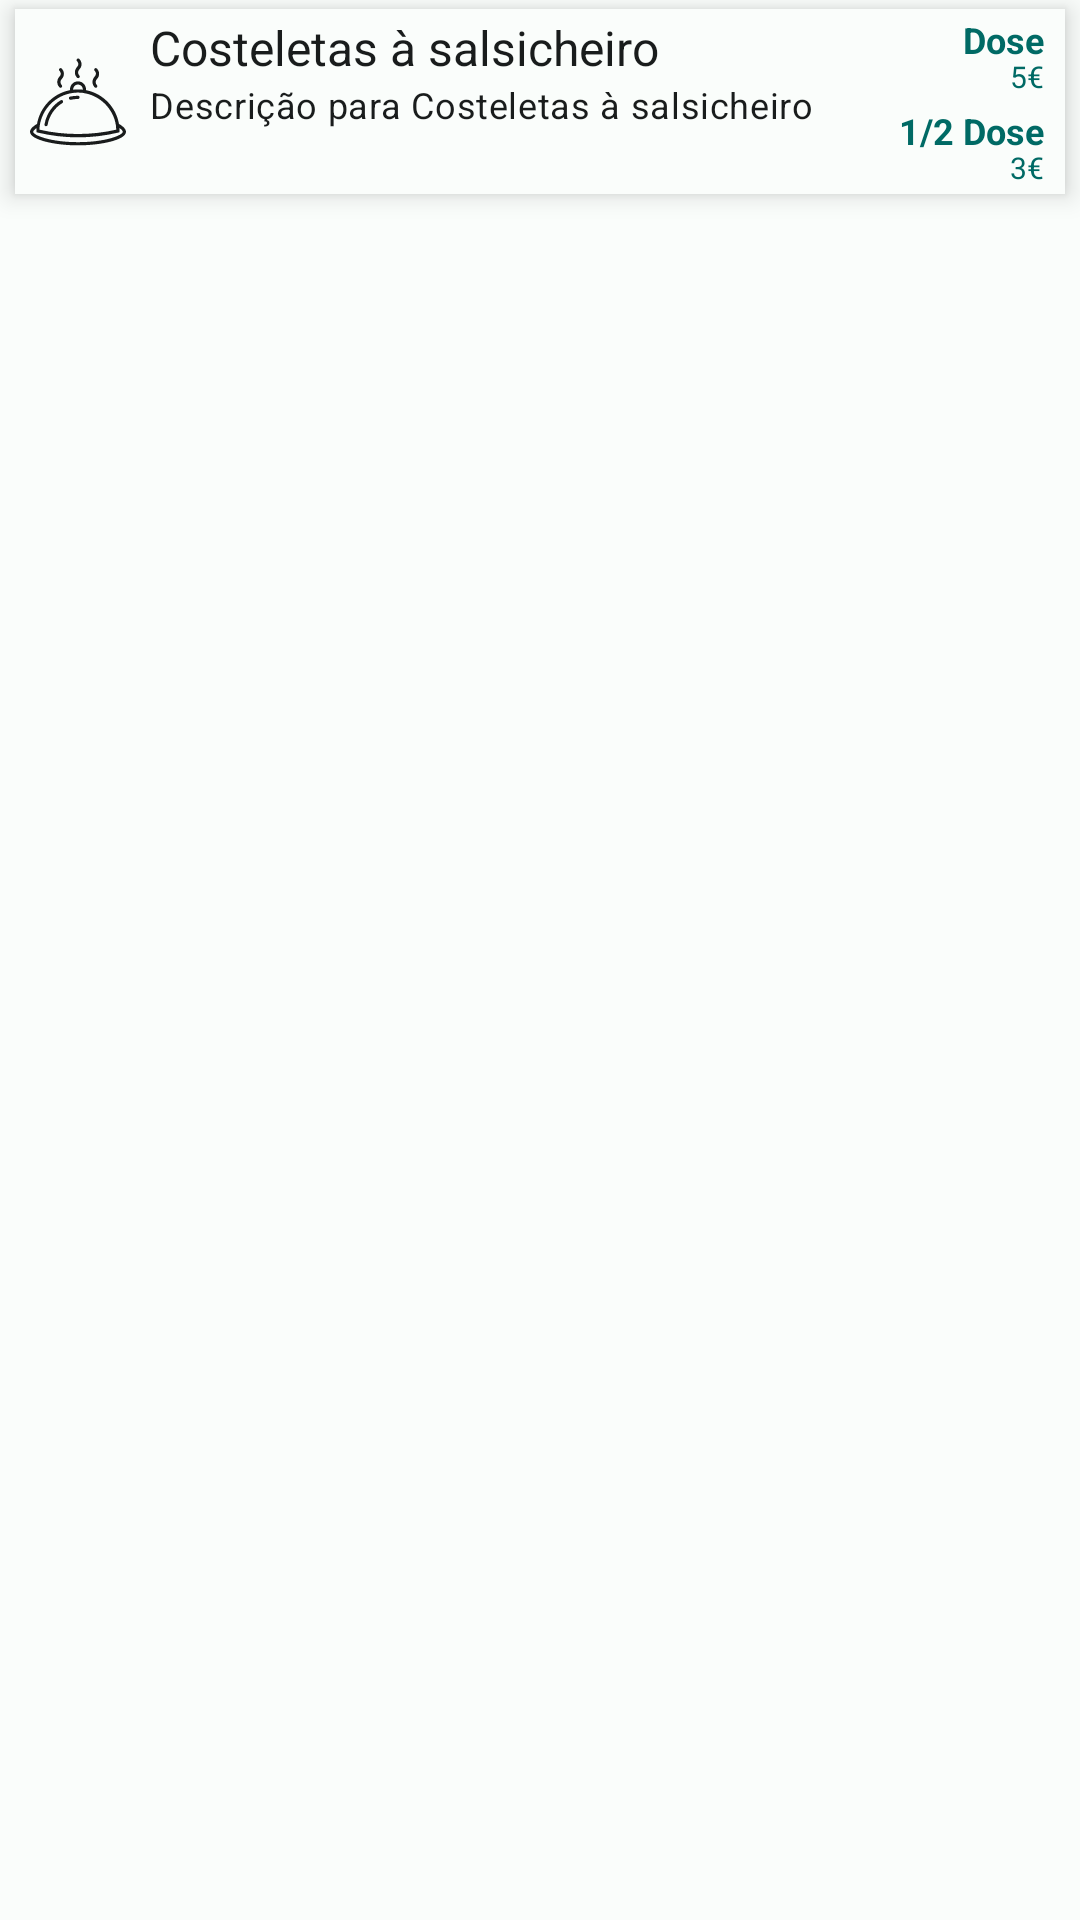

Named icons in this screenshot (1080×1920) and their bounding boxes, (x1, y1, x2, y2):
food: (30, 58, 126, 146)
